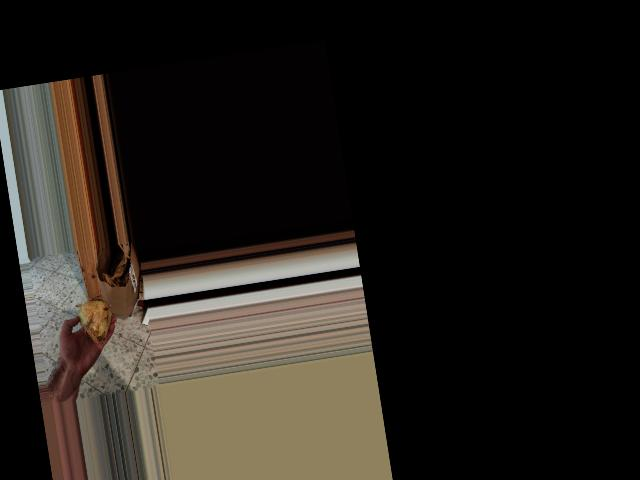onion: (75, 295, 117, 348)
